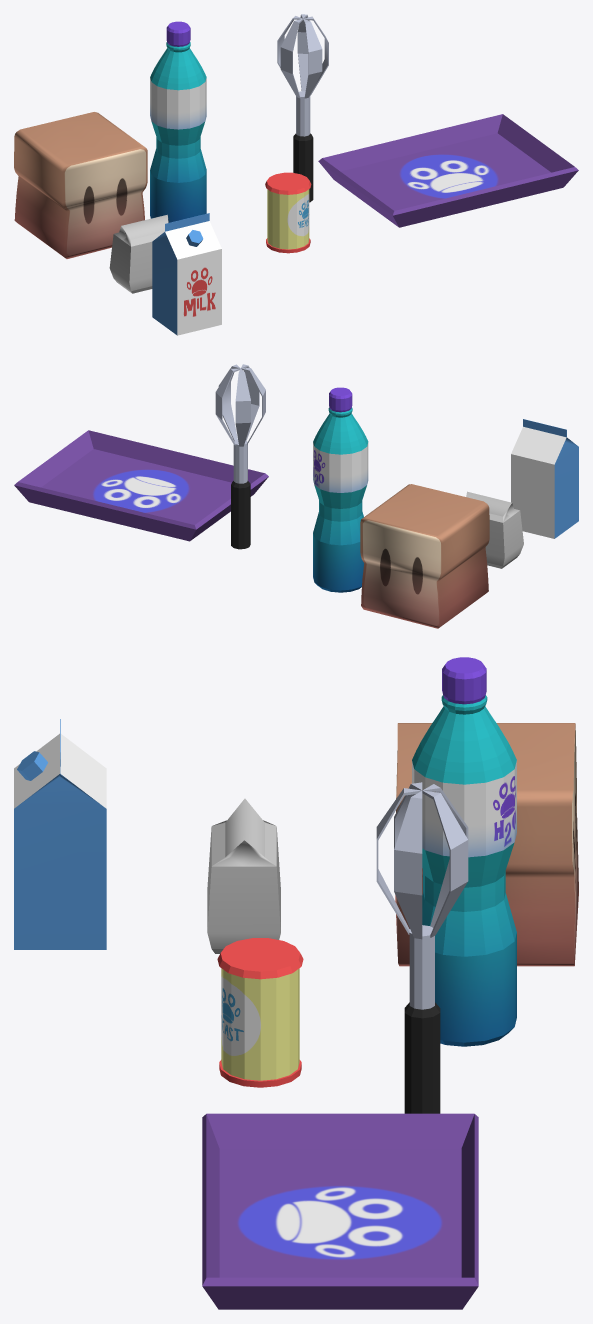
File: bread and things.fbx
3 renders of one model, top to bottom at view 1: azimuth 30°, elevation 25°; view 2: azimuth 150°, elevation 25°; view 3: azimuth 270°, elevation 25°, orthographic. The views are drawn at different scales.
Visible parts, largest first — view 1: tray, bread, water, milk, whisk, yeast, flour; view 2: tray, bread, water, milk, whisk, flour; view 3: tray, water, milk, bread, whisk, yeast, flour.
Boxes of the visible parts, bbox=[...] form: tray: bbox=[318, 114, 578, 227]; bread: bbox=[14, 112, 147, 258]; water: bbox=[150, 21, 206, 222]; milk: bbox=[152, 213, 221, 335]; whisk: bbox=[277, 14, 328, 202]; yeast: bbox=[265, 172, 311, 253]; flour: bbox=[109, 214, 168, 293]; tray: bbox=[14, 430, 268, 541]; bread: bbox=[360, 484, 489, 628]; water: bbox=[313, 387, 368, 592]; milk: bbox=[511, 419, 578, 538]; whisk: bbox=[215, 364, 265, 549]; flour: bbox=[466, 491, 523, 568]; tray: bbox=[202, 1113, 478, 1309]; water: bbox=[412, 657, 516, 1046]; milk: bbox=[14, 719, 106, 949]; bread: bbox=[395, 723, 578, 966]; whisk: bbox=[376, 782, 468, 1113]; yeast: bbox=[217, 938, 303, 1087]; flour: bbox=[207, 798, 280, 953].
Bounding box in the file's own units: 38.1 × 15.28 × 21.62.
